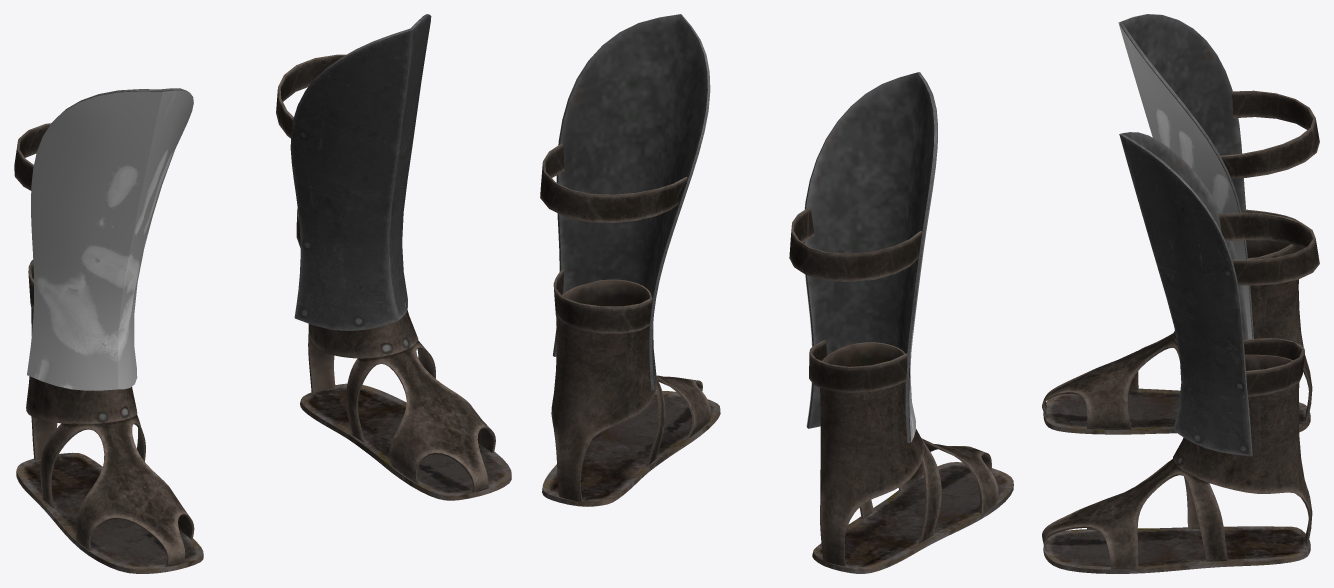
File: sk_uruk_hai_greaves_medium_b3.fbx
3 views of the same model, side by side, from view 1: azimuth 30°, elevation 25°; view 2: azimuth 150°, elevation 25°; view 3: azimuth 270°, elevation 25° (orthographic). The views are drawn at different scales.
Visible parts, largest first — view 1: sk_uruk_hai_greaves_medium_b3.0, sk_uruk_hai_greaves_medium_b3.2, sk_uruk_hai_greaves_medium_b3.1; view 2: sk_uruk_hai_greaves_medium_b3.0, sk_uruk_hai_greaves_medium_b3.1, sk_uruk_hai_greaves_medium_b3.2; view 3: sk_uruk_hai_greaves_medium_b3.0, sk_uruk_hai_greaves_medium_b3.1, sk_uruk_hai_greaves_medium_b3.2.
Part boxes in pixels (box(x1,y1,x2,y2)): sk_uruk_hai_greaves_medium_b3.0: box(16, 14, 511, 573); sk_uruk_hai_greaves_medium_b3.2: box(27, 90, 193, 390); sk_uruk_hai_greaves_medium_b3.1: box(14, 54, 345, 309); sk_uruk_hai_greaves_medium_b3.0: box(542, 14, 1013, 573); sk_uruk_hai_greaves_medium_b3.1: box(540, 143, 922, 393); sk_uruk_hai_greaves_medium_b3.2: box(804, 72, 937, 441); sk_uruk_hai_greaves_medium_b3.0: box(1042, 14, 1312, 573); sk_uruk_hai_greaves_medium_b3.1: box(1219, 90, 1319, 397); sk_uruk_hai_greaves_medium_b3.2: box(1118, 14, 1252, 339).
Size of the model in its own units: 0.4635 by 0.2991 by 0.4848.
Materials: 3 (3 with a texture image).
